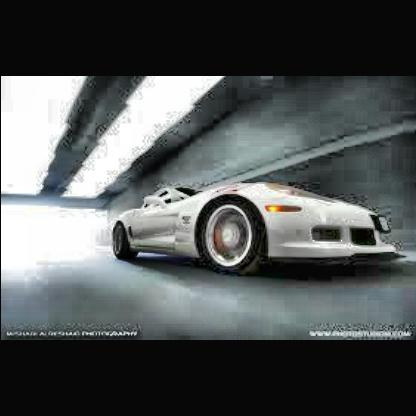Chevrolet Corvette Ron Fellows Edition Z06 2007: (109, 178, 402, 283)
